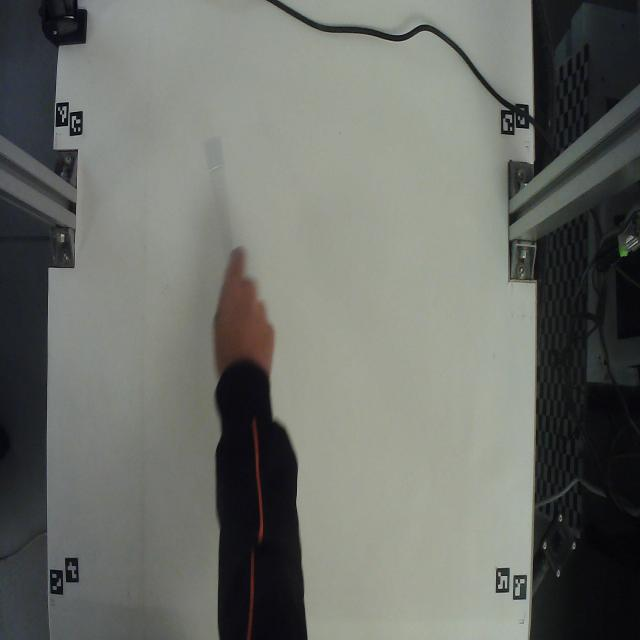NoPres: (192, 104, 254, 262)
